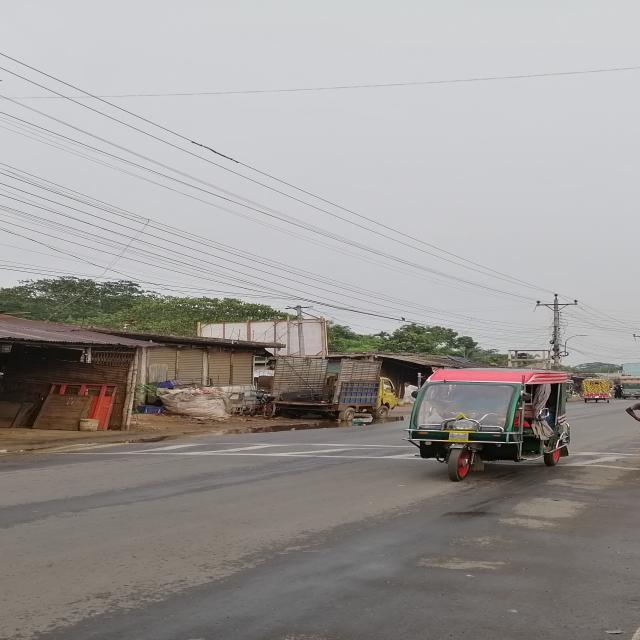Easybike: (407, 367, 581, 481)
